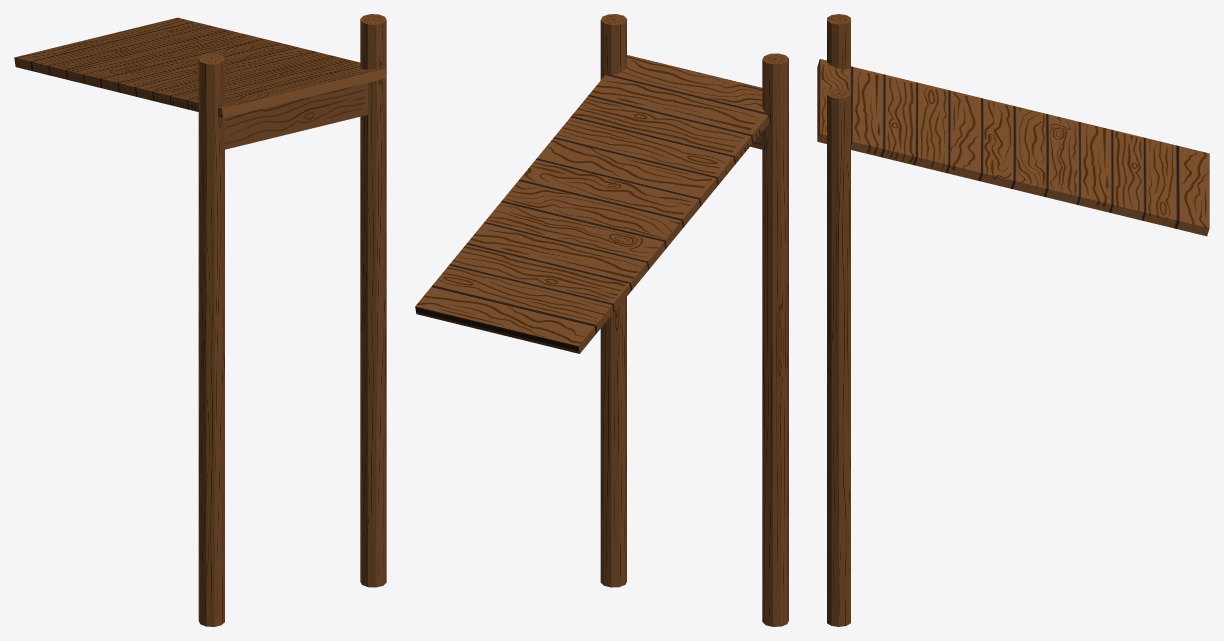
Rendered from Dock_Ramp.fbx.
The picture shows the model from 3 angles, left to right: view 1: azimuth 30°, elevation 25°; view 2: azimuth 150°, elevation 25°; view 3: azimuth 270°, elevation 25°; orthographic projection. The views are drawn at different scales.
Visible parts, largest first — view 1: Trestle03, Planks; view 2: Planks, Trestle03; view 3: Planks, Trestle03.
Boxes of the visible parts, box(x1,y1,x2,y2) form: Trestle03: box(198, 14, 386, 626); Planks: box(14, 17, 386, 117); Planks: box(415, 55, 769, 353); Trestle03: box(600, 14, 788, 626); Planks: box(817, 59, 1209, 236); Trestle03: box(827, 14, 850, 626).
Size of the model in its own units: 9.71 by 28.27 by 19.01.
Materials: 2 (2 with a texture image).
